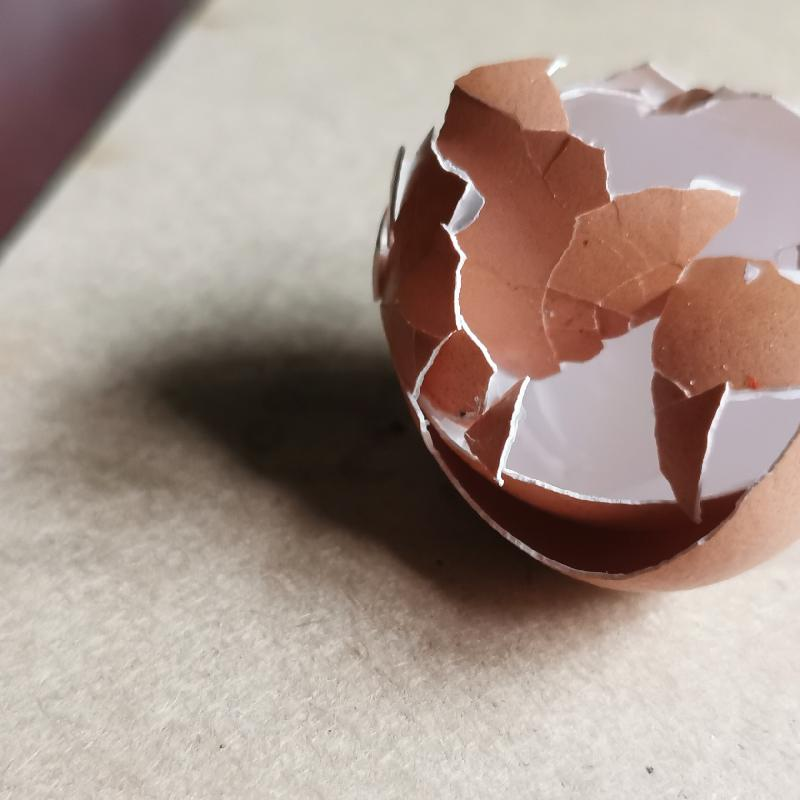eggshell: (360, 49, 800, 595)
